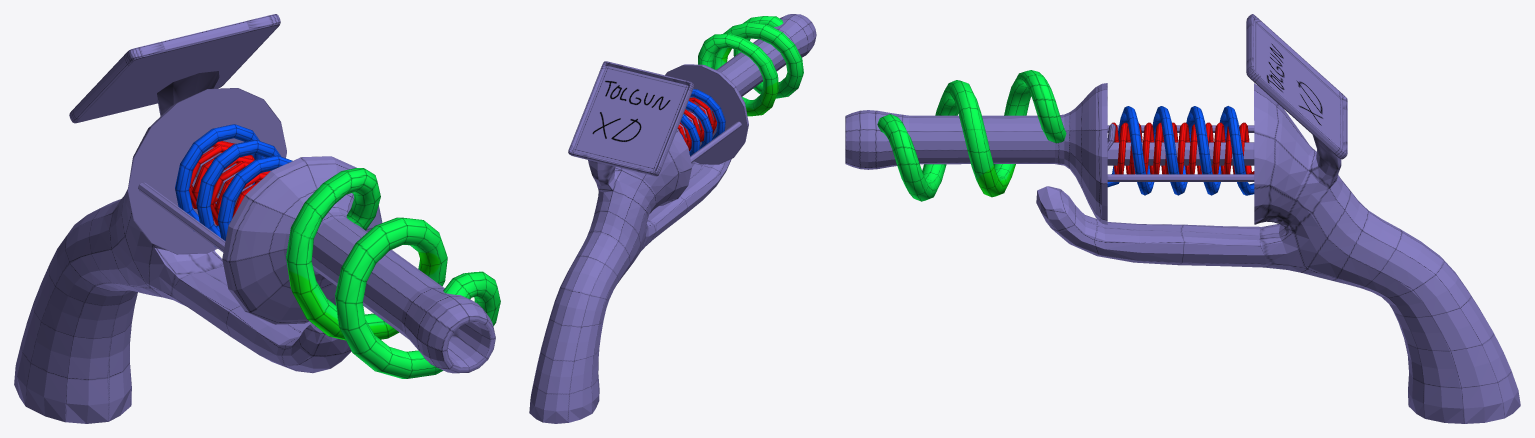
File: ToolBlaster.obj
3 renders of one model, left to right at view 1: azimuth 30°, elevation 25°; view 2: azimuth 150°, elevation 25°; view 3: azimuth 270°, elevation 25°, orthographic. The views are drawn at different scales.
Visible parts, largest first — view 1: ToolBlaster_base_Cylinder.001, ToolBlaster_winding_alien_Circle.005, ToolBlaster_winding_outer_Circle.004, ToolBlaster_winding_inner_Circle.003; view 2: ToolBlaster_base_Cylinder.001, ToolBlaster_winding_alien_Circle.005, ToolBlaster_winding_outer_Circle.004, ToolBlaster_winding_inner_Circle.003; view 3: ToolBlaster_base_Cylinder.001, ToolBlaster_winding_alien_Circle.005, ToolBlaster_winding_outer_Circle.004, ToolBlaster_winding_inner_Circle.003.
Boxes of the visible parts, x1=… form: ToolBlaster_base_Cylinder.001: x1=14, y1=14, x2=495, y2=423; ToolBlaster_winding_alien_Circle.005: x1=286, y1=168, x2=500, y2=378; ToolBlaster_winding_outer_Circle.004: x1=175, y1=124, x2=292, y2=246; ToolBlaster_winding_inner_Circle.003: x1=189, y1=141, x2=270, y2=225; ToolBlaster_base_Cylinder.001: x1=529, y1=14, x2=816, y2=423; ToolBlaster_winding_alien_Circle.005: x1=698, y1=16, x2=803, y2=116; ToolBlaster_winding_outer_Circle.004: x1=680, y1=89, x2=725, y2=156; ToolBlaster_winding_inner_Circle.003: x1=677, y1=97, x2=716, y2=151; ToolBlaster_base_Cylinder.001: x1=845, y1=14, x2=1520, y2=423; ToolBlaster_winding_alien_Circle.005: x1=877, y1=70, x2=1066, y2=201; ToolBlaster_winding_outer_Circle.004: x1=1107, y1=106, x2=1254, y2=195; ToolBlaster_winding_inner_Circle.003: x1=1107, y1=122, x2=1254, y2=174.
Bounding box in the file's own units: 0.0529 × 0.1484 × 0.2474.
1 material, 1 textured.
